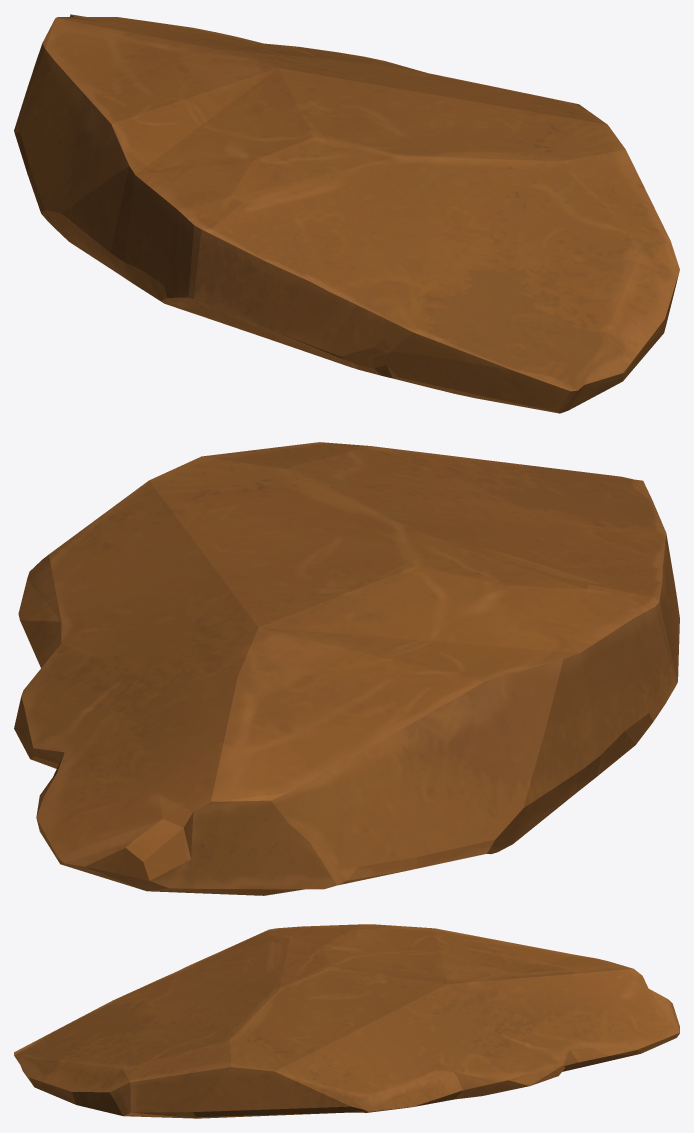
Rendered from flatRockLowPoly.fbx.
3 views of the same model, one above another, from view 1: azimuth 30°, elevation 25°; view 2: azimuth 150°, elevation 25°; view 3: azimuth 270°, elevation 25° (orthographic). The views are drawn at different scales.
Visible parts, largest first — view 1: polySurface1; view 2: polySurface1; view 3: polySurface1.
Boxes of the visible parts, x1,y1,x2,y2 form: polySurface1: (14,14,679,413); polySurface1: (14,442,679,895); polySurface1: (14,924,679,1118).
Size of the model in its own units: 5.1 by 1.42 by 8.94.
Materials: 1 (1 with a texture image).
